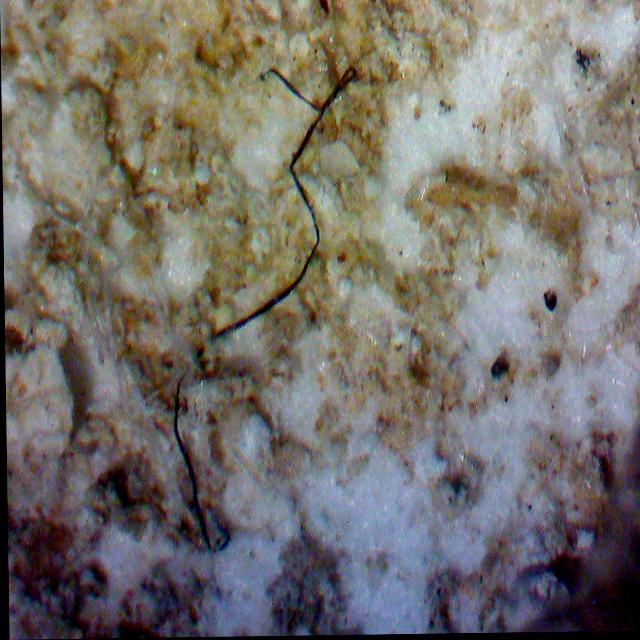microplastic: (171, 67, 357, 552)
